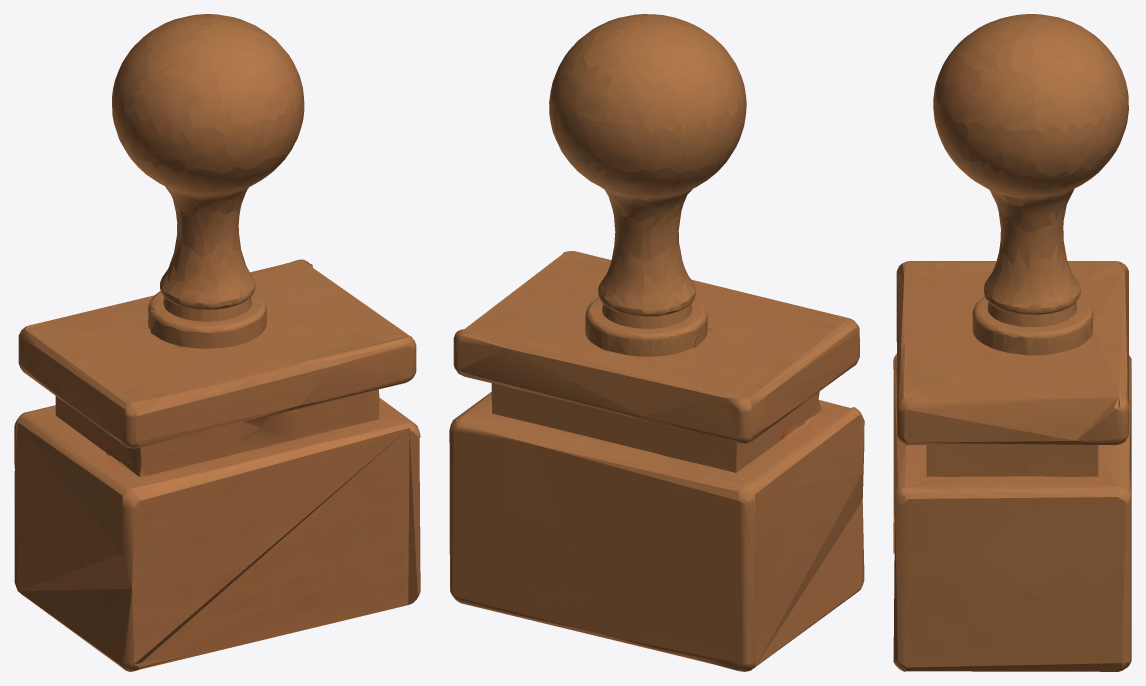
The model's file is stamp.glb.
3 renders of one model, left to right at view 1: azimuth 30°, elevation 25°; view 2: azimuth 150°, elevation 25°; view 3: azimuth 270°, elevation 25°, orthographic. The views are drawn at different scales.
Size of the model in its own units: 1.04 by 1.9 by 0.7112.
1 material, 1 textured.
